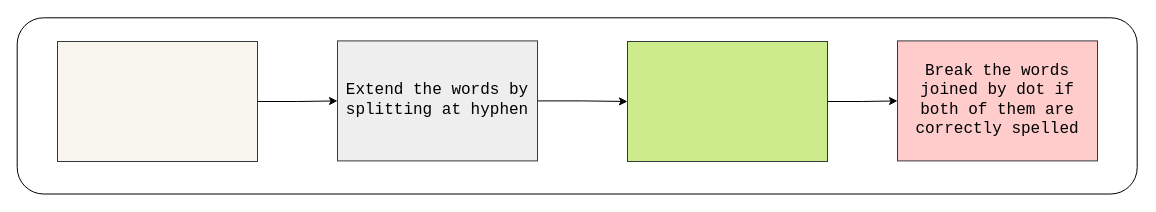
Image size: 1156x212. Some labels were removed from this diagram. The centre of each missing label's shape, as x and y in pixels:
Split the string at space to get words: the point at 157,101
Split the words at apostrophe, remove the complementary pronouns: the point at 727,101
